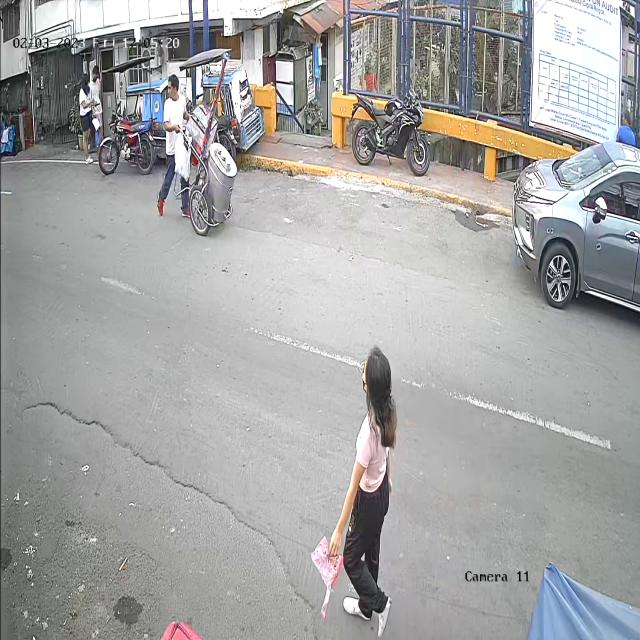human: (310, 344, 393, 640)
trash: (313, 526, 344, 617)
